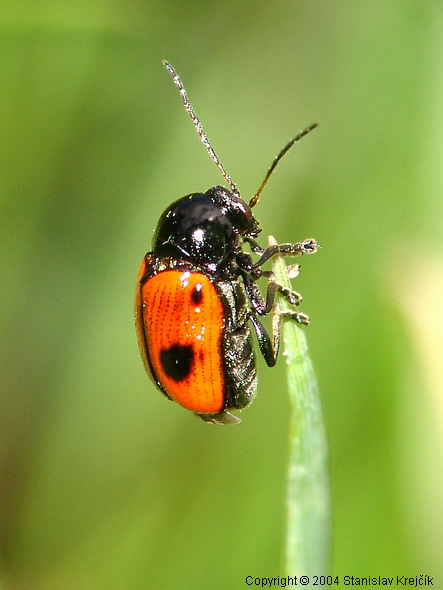Cryptocephalus_bipunctatus: (128, 46, 319, 437)
